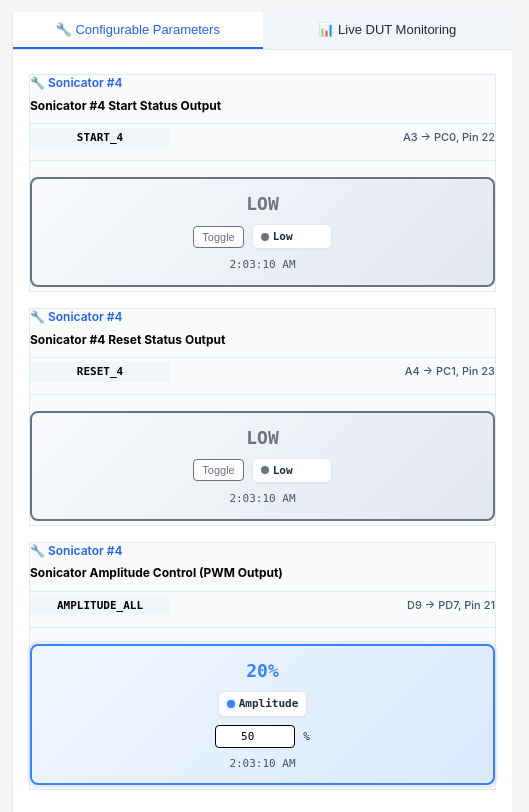
Test: ControlPanel › switches to monitoring tab when selected
What coordinates should you click on to do the following:
click the button "📊 Live DUT Monitoring"
I would click on:
 (387, 30)
Its box is top-left (262, 12), bottom-right (512, 49).
(page scrolled)
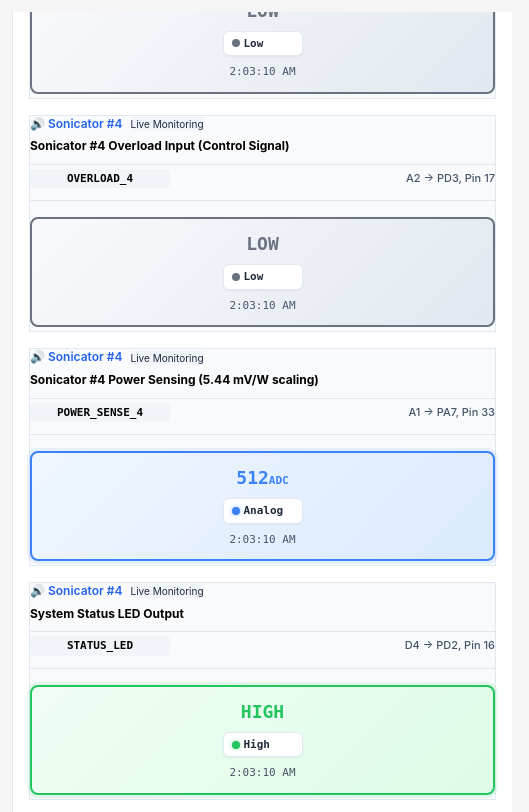
Now the text "POWER_SENSE_4" is shown, box top-left (30, 403), bottom-right (170, 422)
